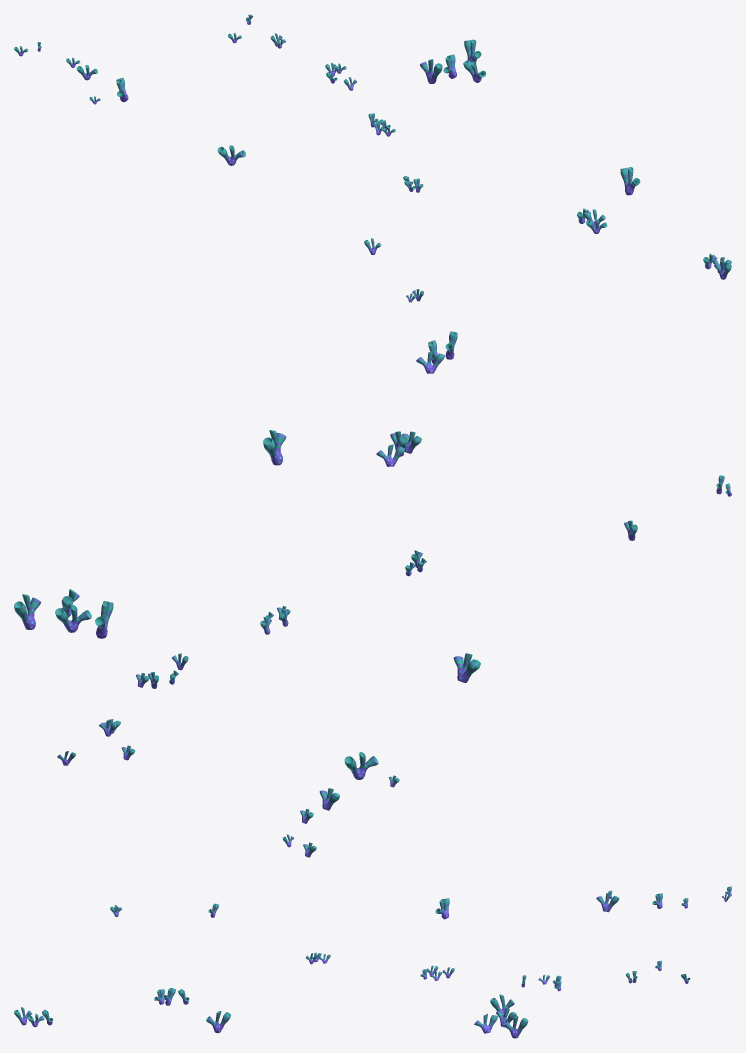
File: plantB.fbx
3 views of the same model, one above another, from view 1: azimuth 30°, elevation 25°; view 2: azimuth 150°, elevation 25°; view 3: azimuth 270°, elevation 25° (orthographic). The views are drawn at different scales.
Visible parts, largest first — view 1: plantB; view 2: plantB; view 3: plantB.
Part boxes in pixels (<box>): plantB: <box>14,14,731,302</box>; plantB: <box>14,331,731,857</box>; plantB: <box>14,886,731,1038</box>.
Bounding box in the file's own units: 1543 × 113 × 3226.
